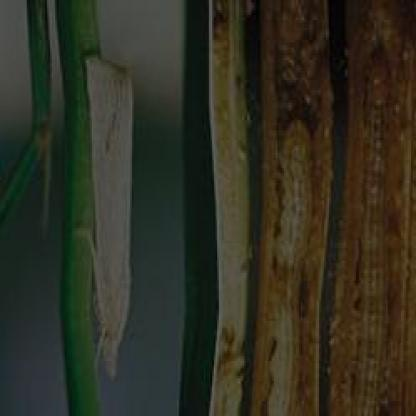stem-borer: (70, 44, 136, 384)
